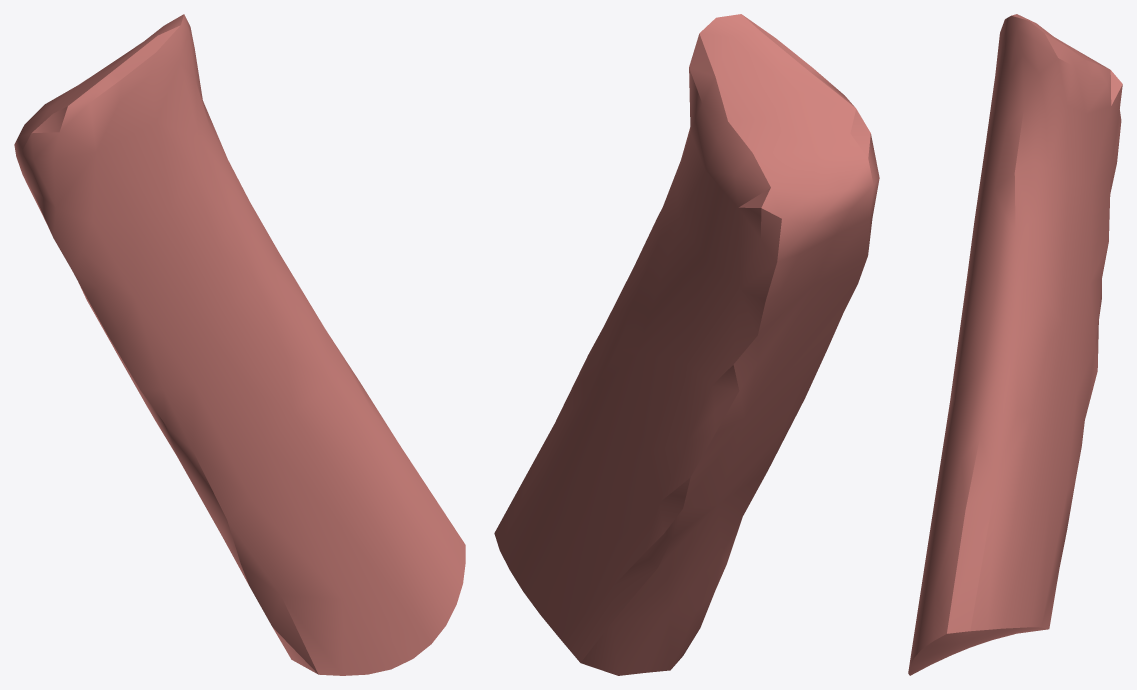
File: fma38681-o_mm1847m.glb
3 views of the same model, side by side, from view 1: azimuth 30°, elevation 25°; view 2: azimuth 150°, elevation 25°; view 3: azimuth 270°, elevation 25° (orthographic). The views are drawn at different scales.
Visible parts, largest first — view 1: FMA38681-O_MM1847M; view 2: FMA38681-O_MM1847M; view 3: FMA38681-O_MM1847M.
Boxes of the visible parts, x1,y1,x2,y2 form: FMA38681-O_MM1847M: [14, 14, 465, 675]; FMA38681-O_MM1847M: [494, 14, 879, 675]; FMA38681-O_MM1847M: [908, 14, 1122, 675].
Size of the model in its own units: 0.0119 by 0.0188 by 0.00619.
